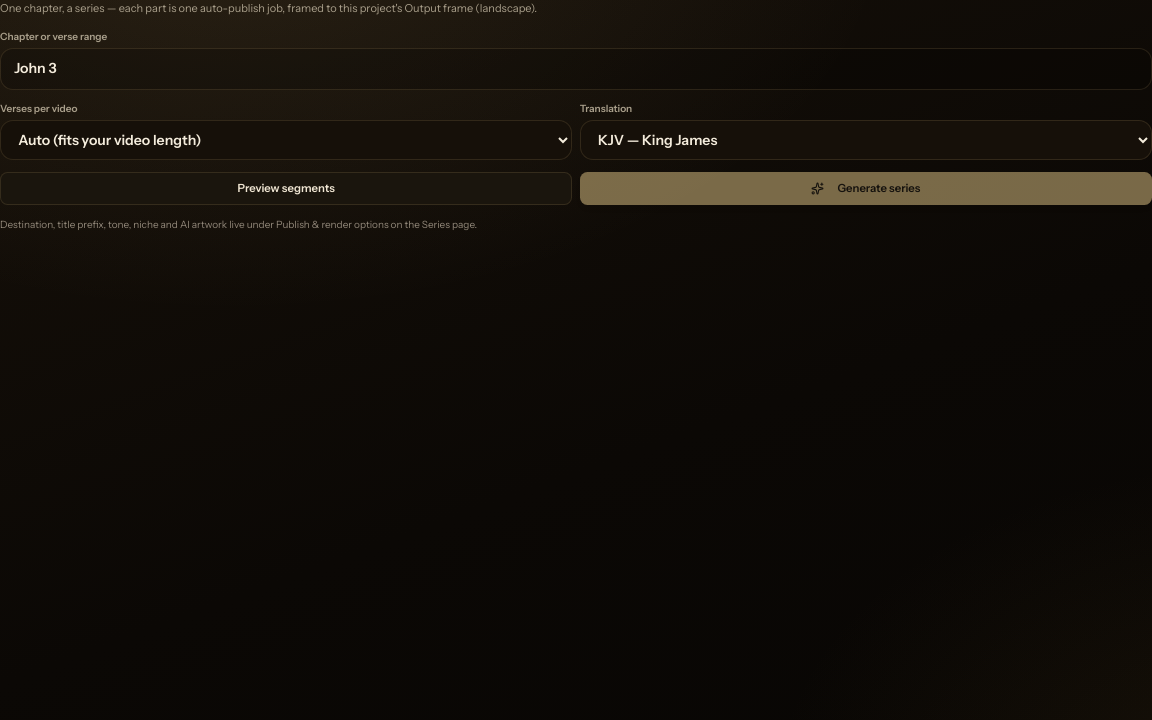
SeriesQuickPanel › generates with the PROJECT frame - one Output frame, everywhere
Click the button "Preview segments": coordinates (286, 189) [0, 172, 572, 206]
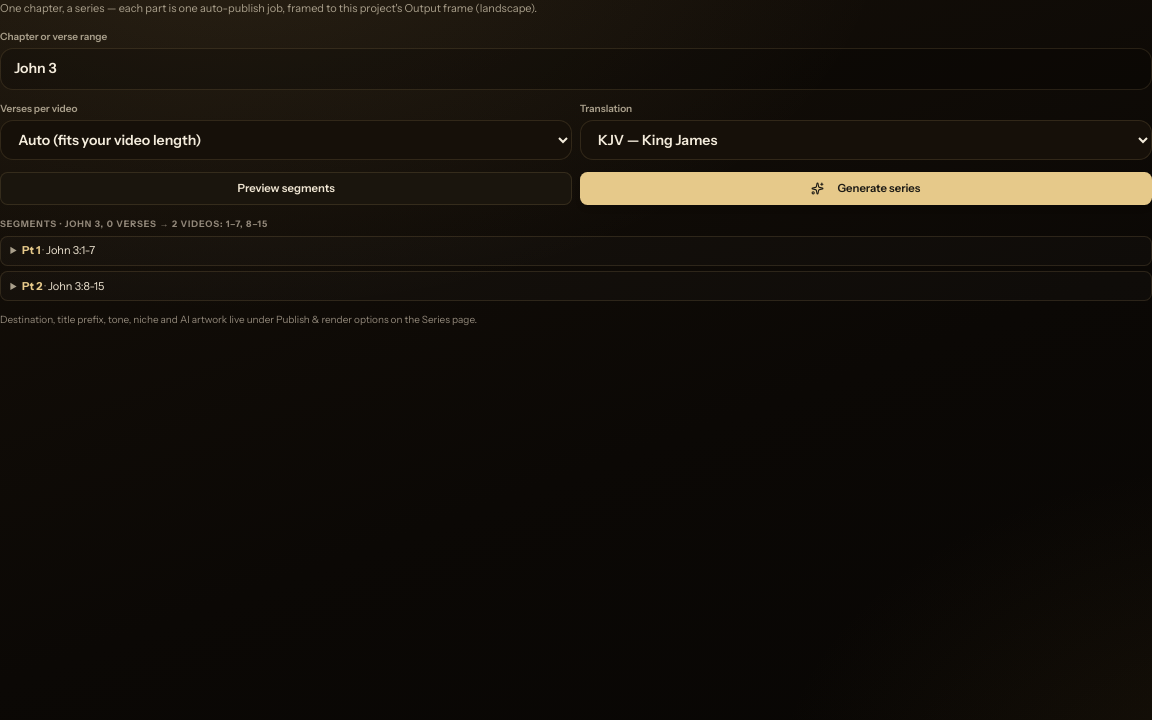
Expected: the text "John 3:1-7" is shown, [46, 244, 95, 258]
Click the button "Generate series": coordinates (866, 189) [580, 172, 1151, 206]
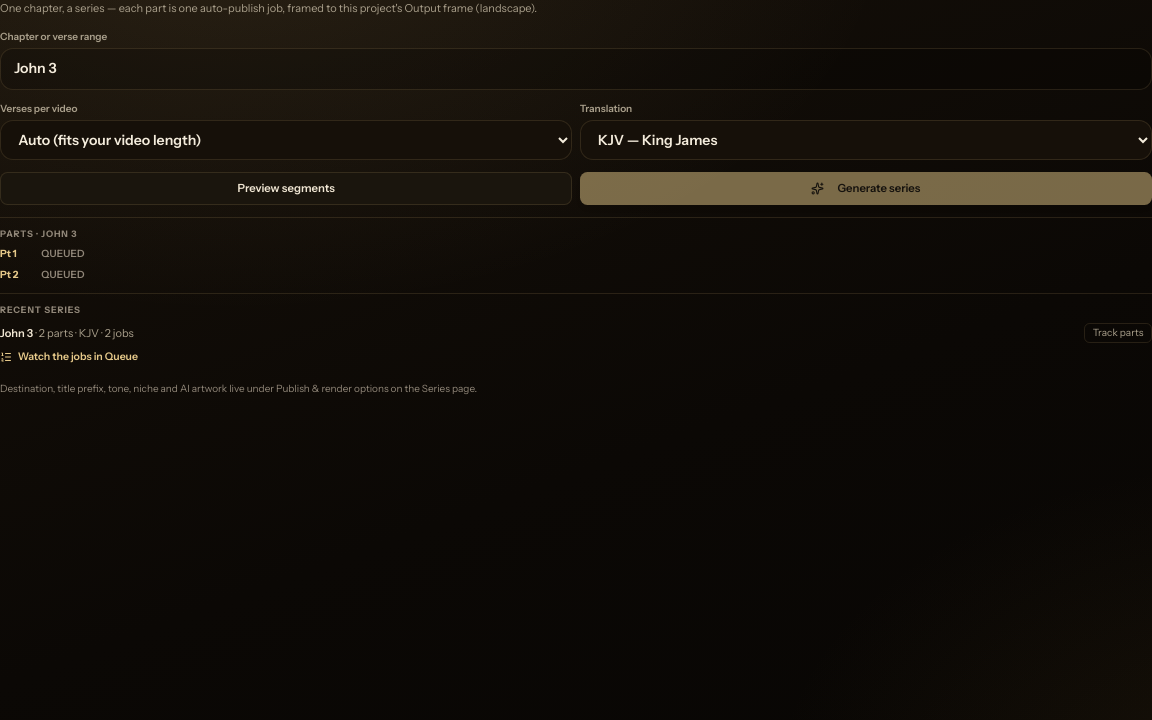
Expected: the text "John 3 · 2 parts · KJV · 2 jobs" is shown, [0, 326, 134, 340]
